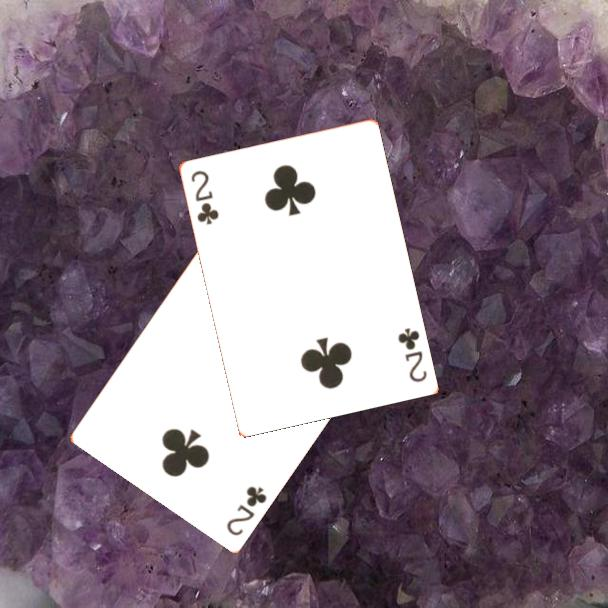c02: (223, 482, 270, 538), (394, 324, 430, 385), (187, 167, 221, 227)
